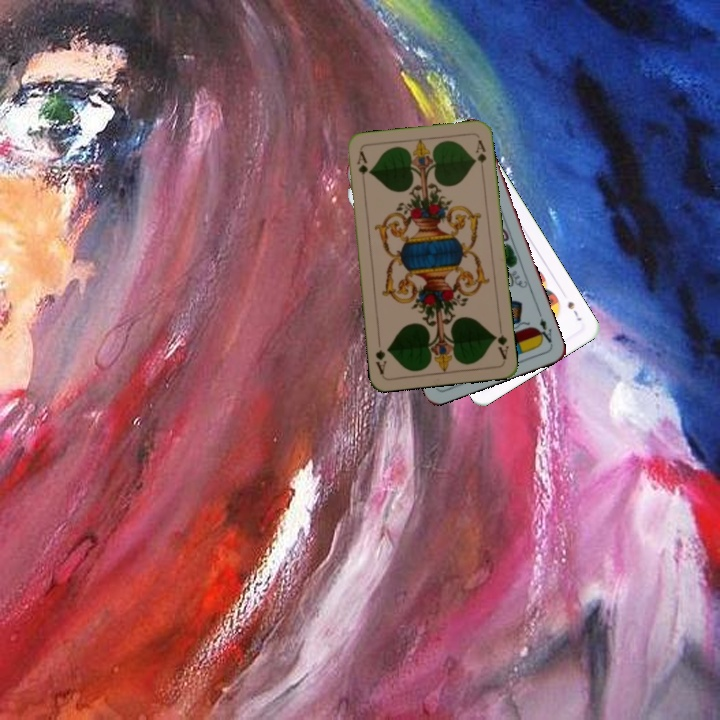EA: (532, 314, 555, 347)
GA: (490, 322, 511, 362), (353, 147, 370, 188)
S7: (563, 297, 584, 324)
